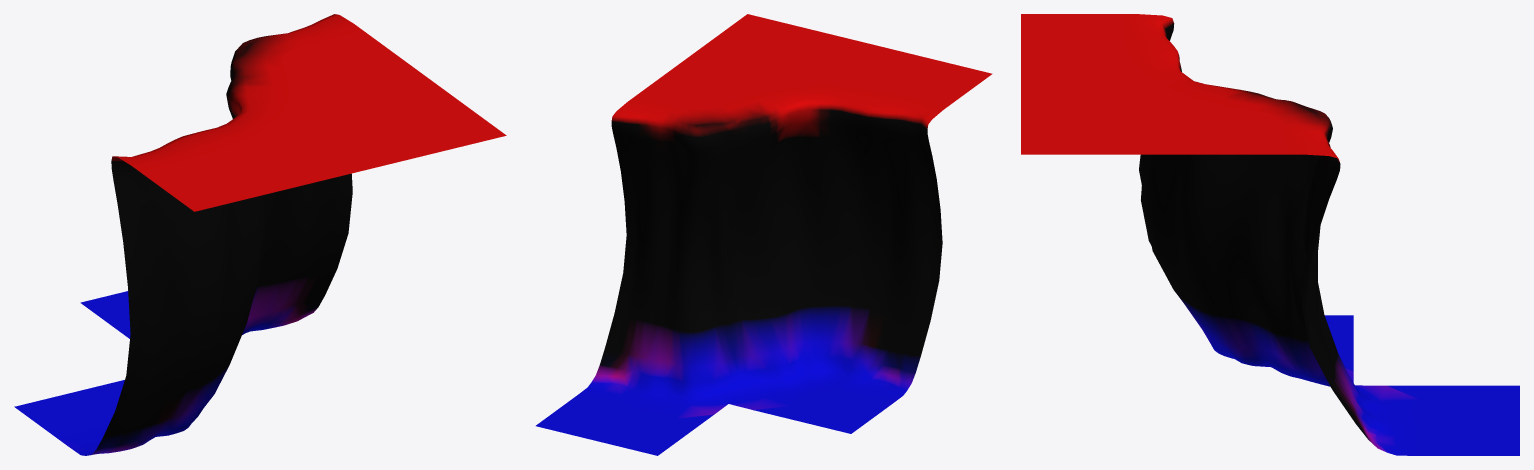
The model's file is GroundCliff05A 2M for Water Foreground.fbx.
3 renders of one model, left to right at view 1: azimuth 30°, elevation 25°; view 2: azimuth 150°, elevation 25°; view 3: azimuth 270°, elevation 25°, orthographic. The views are drawn at different scales.
Parts seen in each view (by area): view 1: GroundCliff05A 2M for Water Foreground; view 2: GroundCliff05A 2M for Water Foreground; view 3: GroundCliff05A 2M for Water Foreground.
Part boxes in pixels (x1=…): GroundCliff05A 2M for Water Foreground: x1=14, y1=14, x2=506, y2=455; GroundCliff05A 2M for Water Foreground: x1=536, y1=14, x2=992, y2=455; GroundCliff05A 2M for Water Foreground: x1=1021, y1=14, x2=1519, y2=455.
Size of the model in its own units: 2 by 2 by 3.
